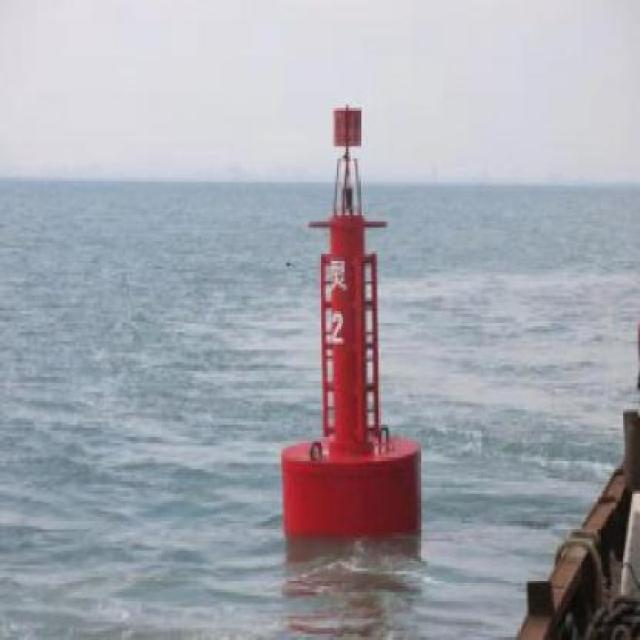buoy: (270, 88, 432, 572)
